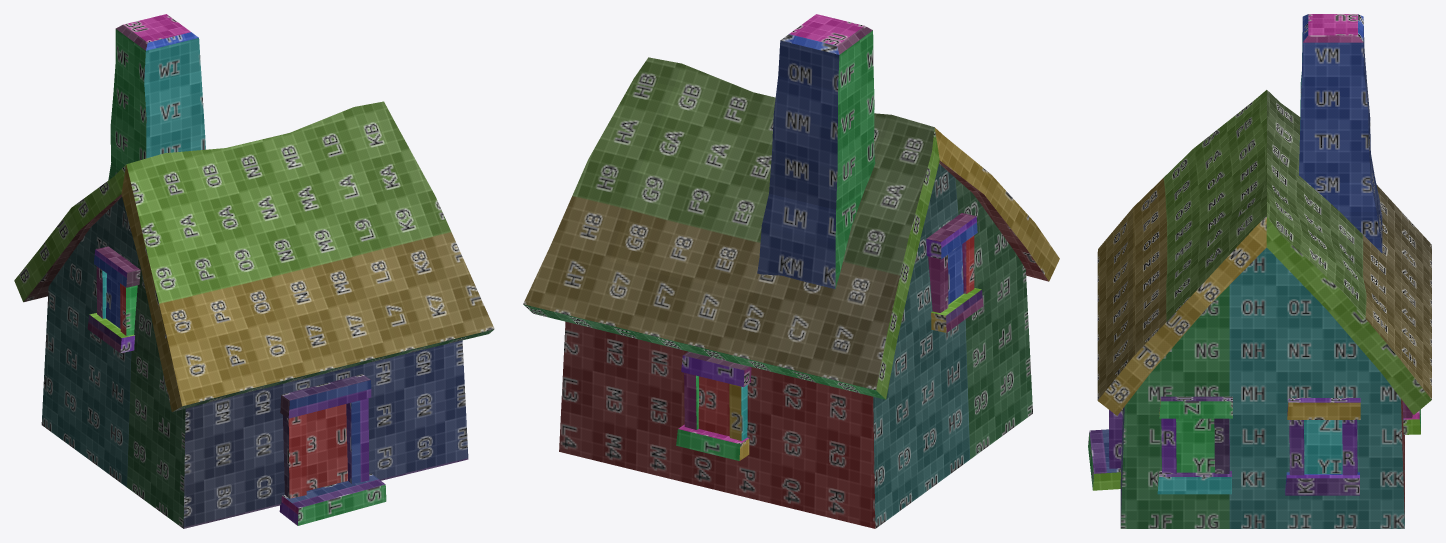
Rendered from house.fbx.
3 views of the same model, side by side, from view 1: azimuth 30°, elevation 25°; view 2: azimuth 150°, elevation 25°; view 3: azimuth 270°, elevation 25° (orthographic). The views are drawn at different scales.
Visible parts, largest first — view 1: house; view 2: house; view 3: house.
Part boxes in pixels (bbox=[...]): house: bbox=[14, 14, 494, 528]; house: bbox=[523, 14, 1059, 528]; house: bbox=[1088, 14, 1431, 528].
Bounding box in the file's own units: 697 × 865 × 652.
